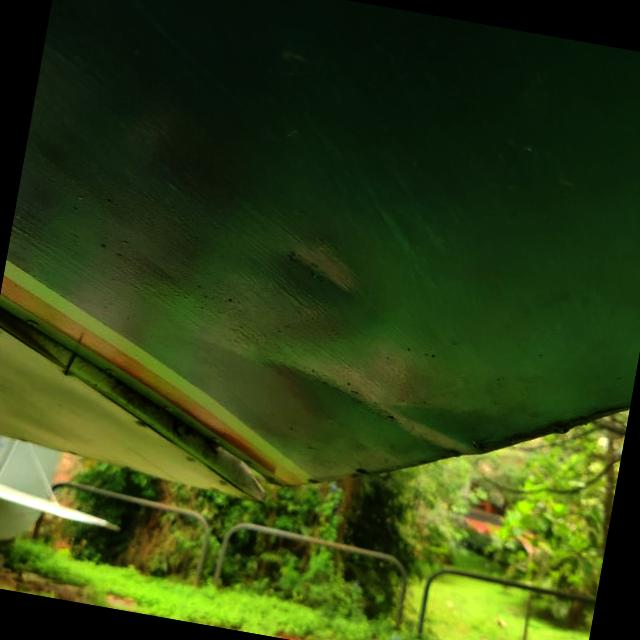dent: (218, 301, 526, 514), (260, 211, 388, 325)
